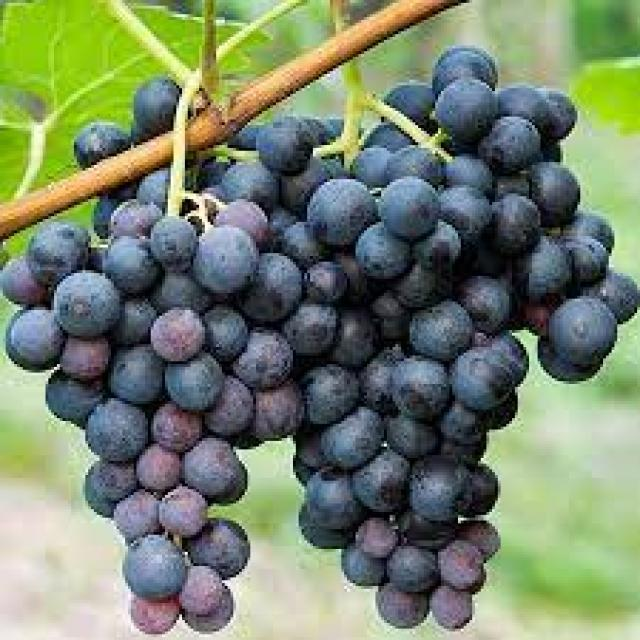grape: (5, 57, 640, 640)
